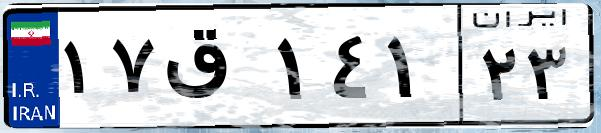1: (270, 28, 330, 110), (385, 28, 445, 110), (57, 26, 110, 100)
2: (475, 38, 525, 113)
3: (525, 38, 570, 115)
4: (330, 28, 385, 110)
7: (110, 28, 158, 98)
ق: (158, 20, 270, 120)
